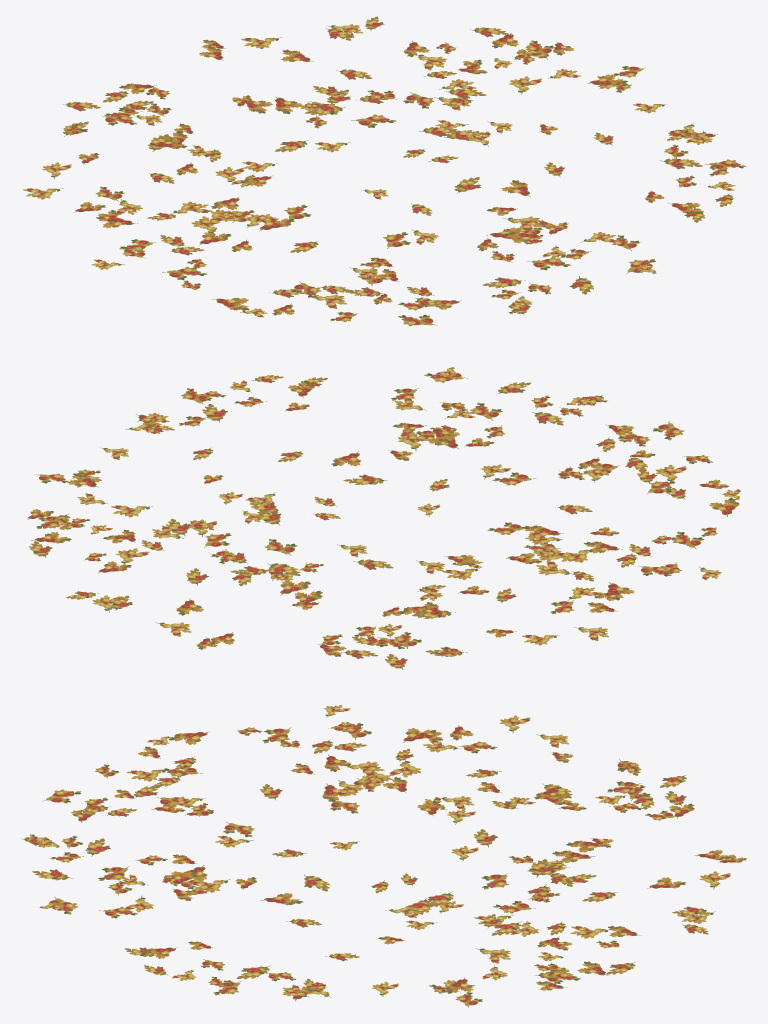
Rendered from pommier_adulte_d.fbx.
3 renders of one model, top to bottom at view 1: azimuth 30°, elevation 25°; view 2: azimuth 150°, elevation 25°; view 3: azimuth 270°, elevation 25°, orthographic.
Parts seen in each view (by area): view 1: pommier_adulte_d_feuilles_sol; view 2: pommier_adulte_d_feuilles_sol; view 3: pommier_adulte_d_feuilles_sol.
Part boxes in pixels (box(x1,y1,x2,y2)): pommier_adulte_d_feuilles_sol: box(23, 16, 746, 326); pommier_adulte_d_feuilles_sol: box(27, 367, 740, 669); pommier_adulte_d_feuilles_sol: box(21, 705, 746, 1007).
Size of what is drawn, in the model's own units: 6.84 by 0.00595 by 6.92.
